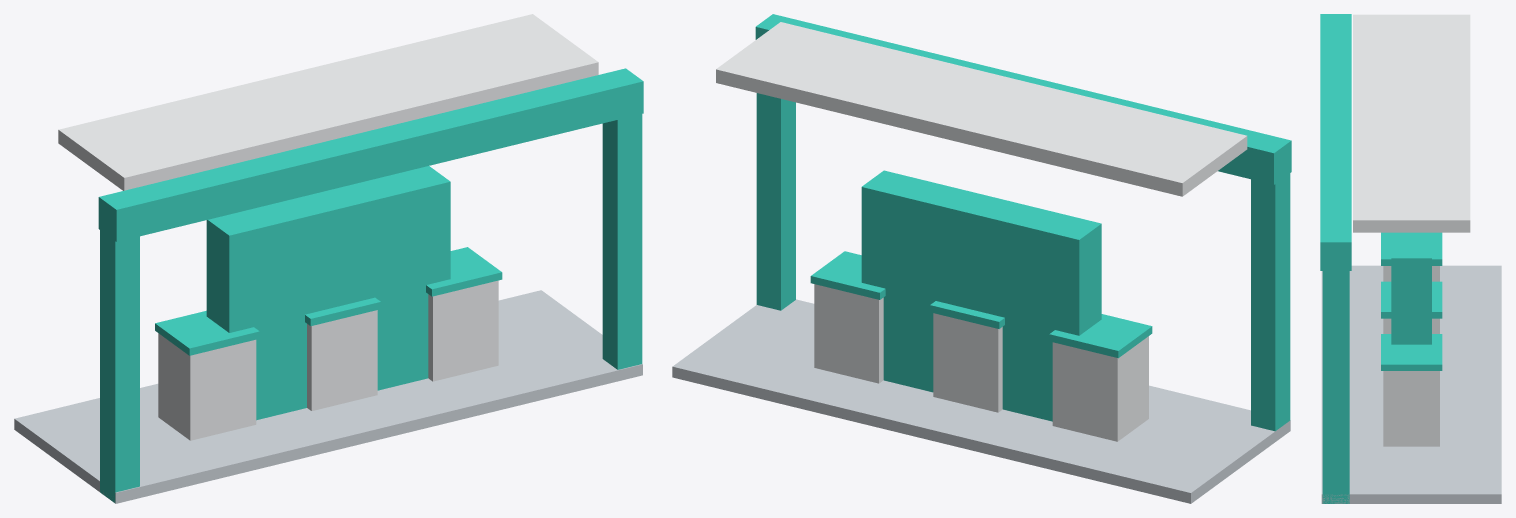
The picture shows the model from 3 angles, left to right: view 1: azimuth 30°, elevation 25°; view 2: azimuth 150°, elevation 25°; view 3: azimuth 270°, elevation 25°; orthographic projection. The views are drawn at different scales.
Visible parts, largest first — view 1: Exhibition Booth Concept; view 2: Exhibition Booth Concept; view 3: Exhibition Booth Concept.
Boxes of the visible parts, x1=… form: Exhibition Booth Concept: x1=14, y1=14, x2=643, y2=503; Exhibition Booth Concept: x1=672, y1=14, x2=1291, y2=503; Exhibition Booth Concept: x1=1320, y1=14, x2=1501, y2=503.
Bounding box in the file's own units: 6 × 3.34 × 2.01.
